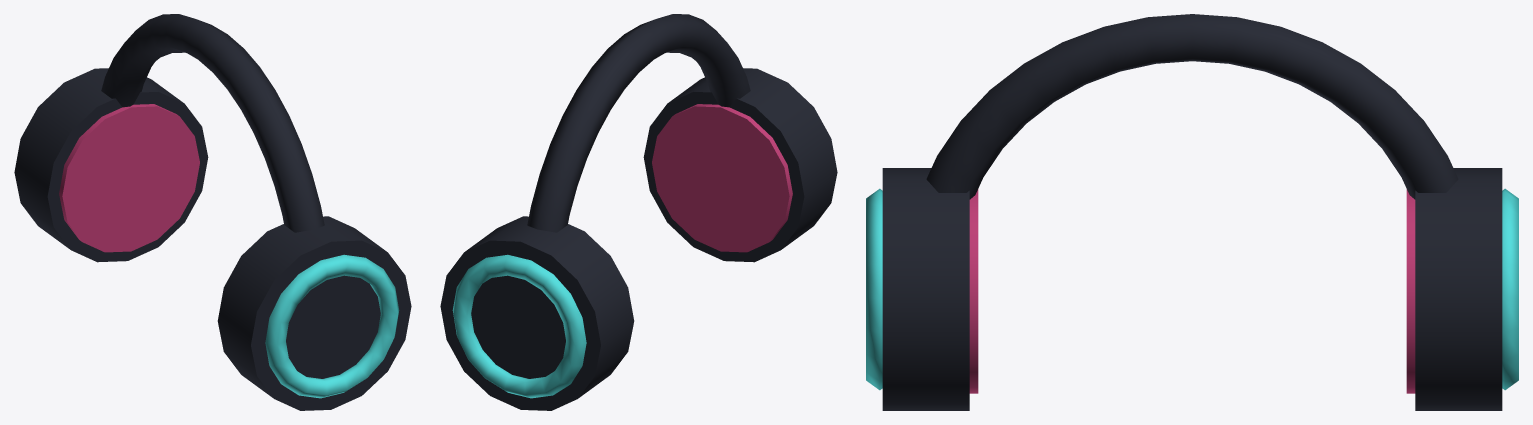
File: hat_headphones.glb
The picture shows the model from 3 angles, left to right: view 1: azimuth 30°, elevation 25°; view 2: azimuth 150°, elevation 25°; view 3: azimuth 270°, elevation 25°; orthographic projection. The views are drawn at different scales.
Parts seen in each view (by area): view 1: Hat; view 2: Hat; view 3: Hat.
Boxes of the visible parts, x1=… form: Hat: x1=14, y1=14, x2=411, y2=410; Hat: x1=440, y1=14, x2=837, y2=410; Hat: x1=866, y1=14, x2=1518, y2=410.
Bounding box in the file's own units: 0.252 × 0.441 × 0.6765.
